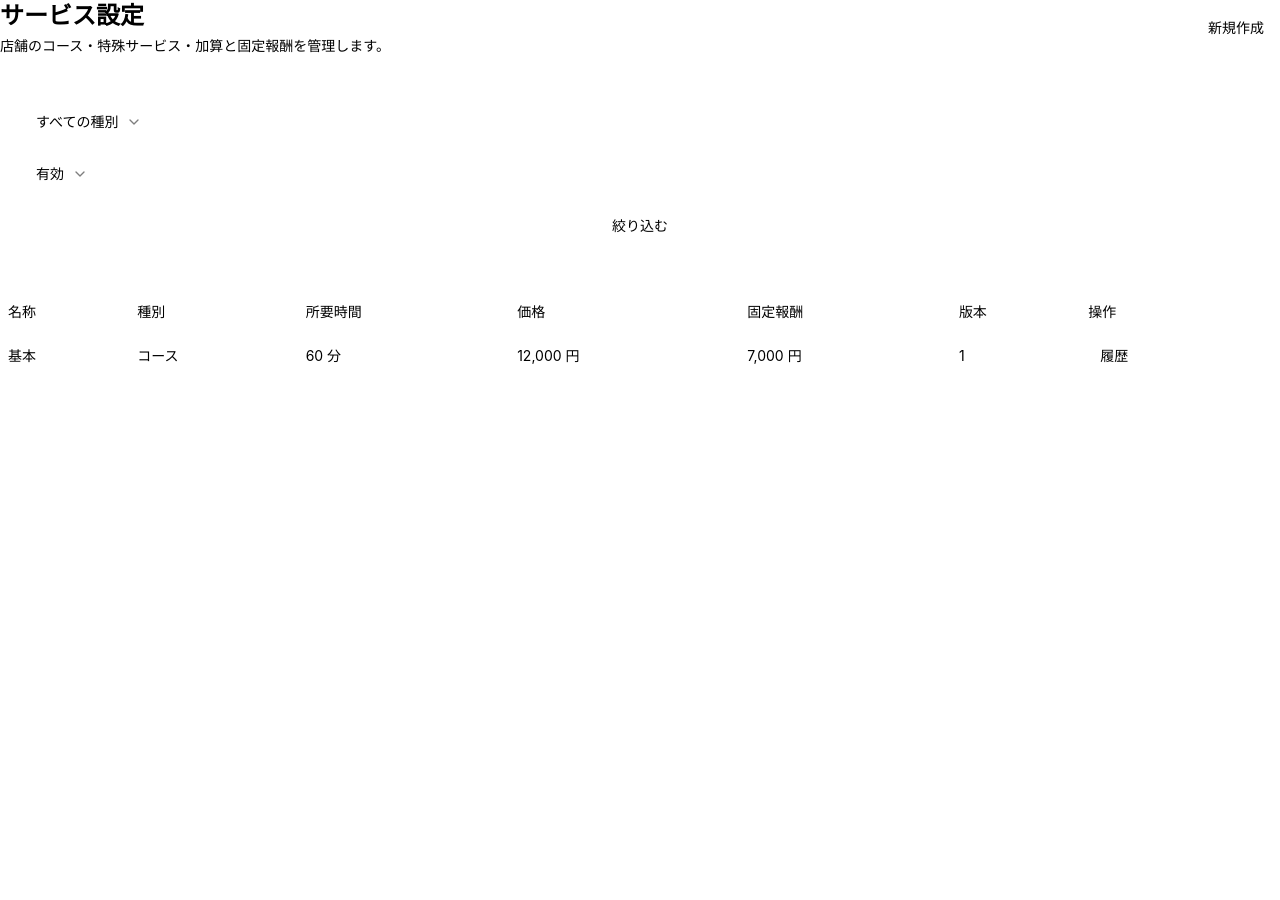
Test: 削除済みの項目は履歴だけを開き前後の金額を照会できる
Click the button "履歴" at {"x": 1114, "y": 356}, box x1=1088 y1=340 x2=1140 y2=372
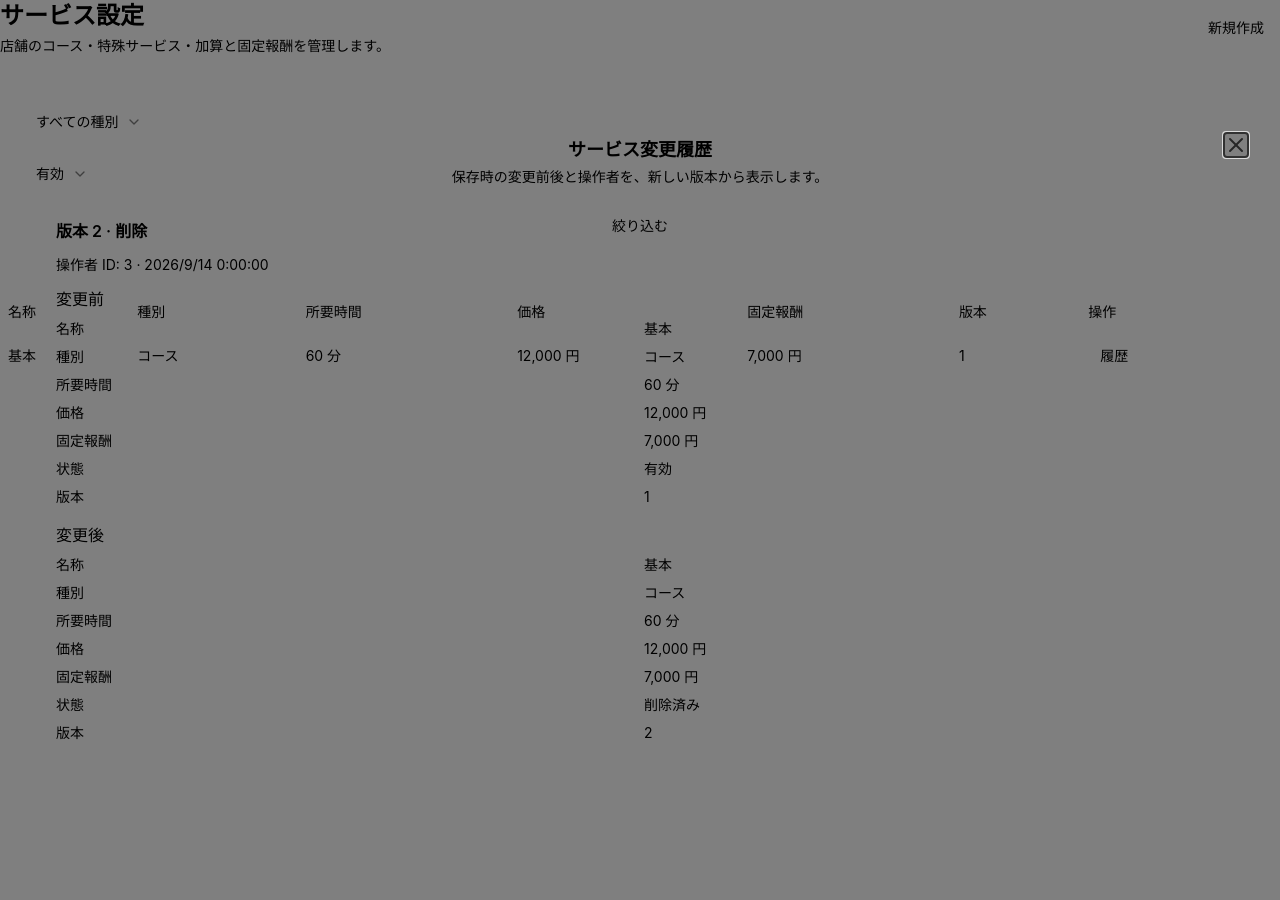
Result: the heading "版本 2 · 削除" is shown at x1=56 y1=221 x2=147 y2=241
Result: the text "7,000 円" is shown 2 times at x1=644 y1=432 x2=698 y2=449; x1=644 y1=668 x2=698 y2=685
